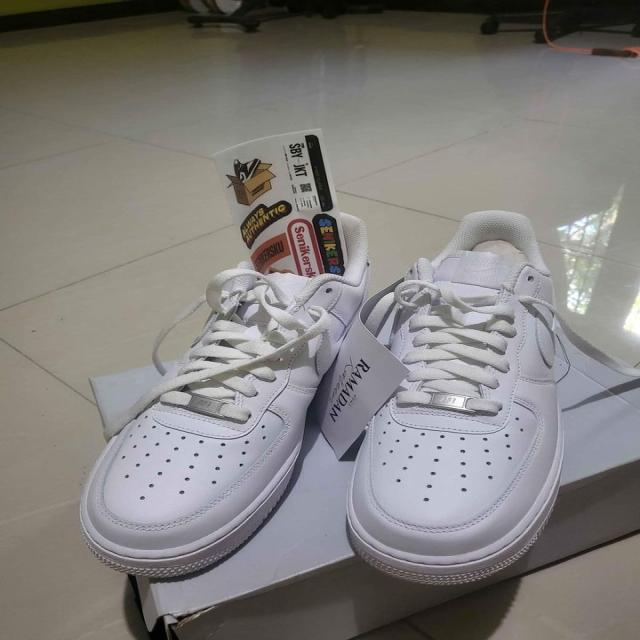nike original air force: (75, 215, 374, 580), (338, 204, 574, 587)
